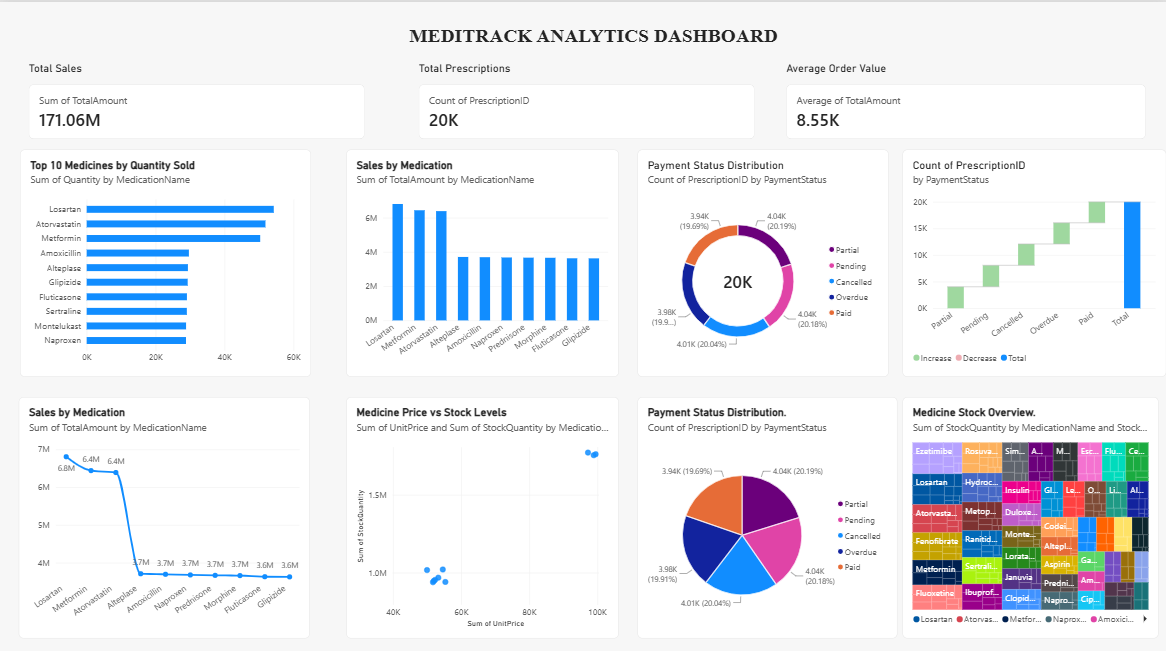

The page's visual inventory and layout, read from the dashboard file:
{"tool":"powerbi","page":{"name":"Page 1","canvas":[1920,1080],"ordinal":0},"visuals":[{"type":"textbox","box":[10.3,0,1910.1,98.8],"z":0},{"type":"cardVisual","title":"Total Sales","fields":{"Data":["Sum(cleaned_data.TotalAmount)"]},"box":[47.3,98.8,553.7,127.6],"z":1000},{"type":"cardVisual","title":"Total Prescriptions","fields":{"Data":["CountNonNull(cleaned_data.PrescriptionID)"]},"box":[689.5,98.8,553.7,127.6],"z":2000},{"type":"cardVisual","title":"Average Order Value","fields":{"Data":["Avg(cleaned_data.TotalAmount)"]},"box":[1294.7,98.8,592.8,127.6],"z":3000},{"type":"clusteredBarChart","title":"Top 10 Medicines by Quantity Sold","fields":{"Category":["cleaned_data.MedicationName"],"Y":["Sum(cleaned_data.Quantity)"]},"box":[32.9,242.9,479.6,374.6],"z":4000},{"type":"clusteredColumnChart","title":"Sales by Medication","fields":{"Category":["cleaned_data.MedicationName"],"Y":["Sum(cleaned_data.TotalAmount)"]},"box":[570.2,242.9,448.7,374.6],"z":5000},{"type":"donutChart","title":"Payment Status Distribution","fields":{"Category":["cleaned_data.PaymentStatus"],"Y":["CountNonNull(cleaned_data.PrescriptionID)"]},"box":[1049.7,242.9,413.7,374.6],"z":6000},{"type":"lineChart","title":"Sales by Medication","fields":{"Category":["cleaned_data.MedicationName"],"Y":["Sum(cleaned_data.TotalAmount)"]},"box":[30.9,650.4,479.6,397.3],"z":7000},{"type":"treemap","title":"Medicine Stock Overview.","fields":{"Details":["cleaned_data.StockQuantity"],"Group":["cleaned_data.MedicationName"],"Values":["Sum(cleaned_data.StockQuantity)"]},"box":[1486.1,650.4,422,397.3],"z":8000},{"type":"waterfallChart","fields":{"Category":["cleaned_data.PaymentStatus"],"Y":["CountNonNull(cleaned_data.PrescriptionID)"]},"box":[1486.1,242.9,434.3,374.6],"z":9000},{"type":"scatterChart","title":"Medicine Price vs Stock Levels","fields":{"Category":["cleaned_data.MedicationName"],"X":["Sum(cleaned_data.UnitPrice)"],"Y":["Sum(cleaned_data.StockQuantity)"]},"box":[570.2,650.4,448.7,397.3],"z":10000},{"type":"pieChart","title":"Payment Status Distribution.","fields":{"Category":["cleaned_data.PaymentStatus"],"Y":["CountNonNull(cleaned_data.PrescriptionID)"]},"box":[1049.7,650.4,428.1,397.3],"z":10001}]}

Visuals, with their boxes in screenshot pixels (x1, y1, x2, y2), scaled from the page's 1920x1080 canvas onto the 1166x651 screenshot:
textbox: [6,0,1165,60]
"Total Sales" cardVisual: [29,60,365,136]
"Total Prescriptions" cardVisual: [419,60,755,136]
"Average Order Value" cardVisual: [786,60,1146,136]
"Top 10 Medicines by Quantity Sold" clusteredBarChart: [20,146,311,372]
"Sales by Medication" clusteredColumnChart: [346,146,619,372]
"Payment Status Distribution" donutChart: [637,146,889,372]
"Sales by Medication" lineChart: [19,392,310,632]
"Medicine Stock Overview." treemap: [902,392,1159,632]
waterfallChart - cleaned_data.PaymentStatus x CountNonNull(cleaned_data.PrescriptionID): [902,146,1165,372]
"Medicine Price vs Stock Levels" scatterChart: [346,392,619,632]
"Payment Status Distribution." pieChart: [637,392,897,632]
